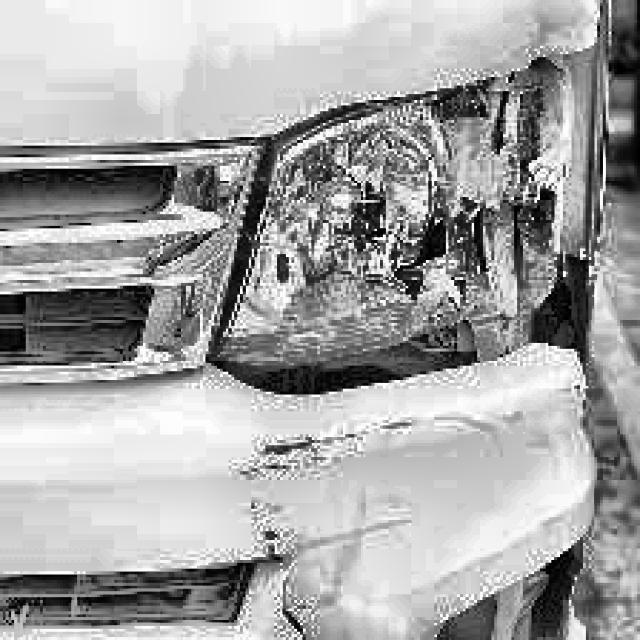head_lamp: (248, 72, 599, 380)
